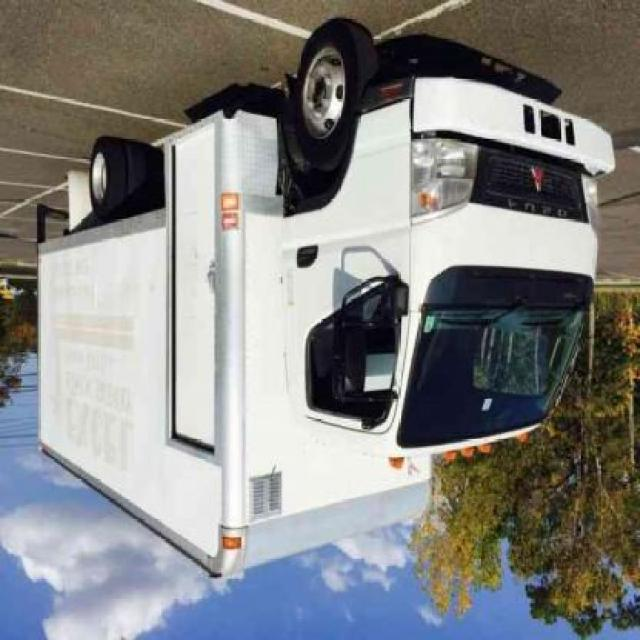truck: (35, 23, 616, 587)
